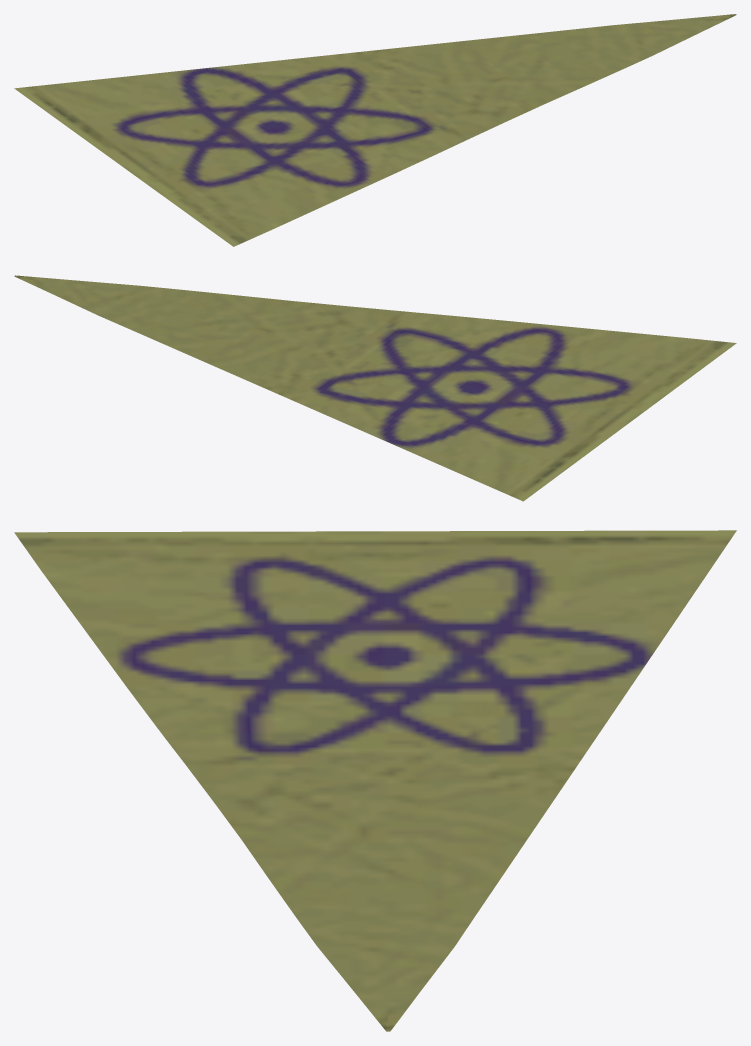
The model's file is nt_2020_flag_nuclear_02_LOD0.obj.
3 renders of one model, top to bottom at view 1: azimuth 30°, elevation 25°; view 2: azimuth 150°, elevation 25°; view 3: azimuth 270°, elevation 25°, orthographic. The views are drawn at different scales.
Visible parts, largest first — view 1: mtl_nt_2020_flag_nuclear_02; view 2: mtl_nt_2020_flag_nuclear_02; view 3: mtl_nt_2020_flag_nuclear_02.
Boxes of the visible parts, box(x1,y1,x2,y2) form: mtl_nt_2020_flag_nuclear_02: box(14, 14, 736, 246); mtl_nt_2020_flag_nuclear_02: box(14, 275, 736, 501); mtl_nt_2020_flag_nuclear_02: box(14, 530, 736, 1031).
Bounding box in the file's own units: 116 × 0 × 70.92.
